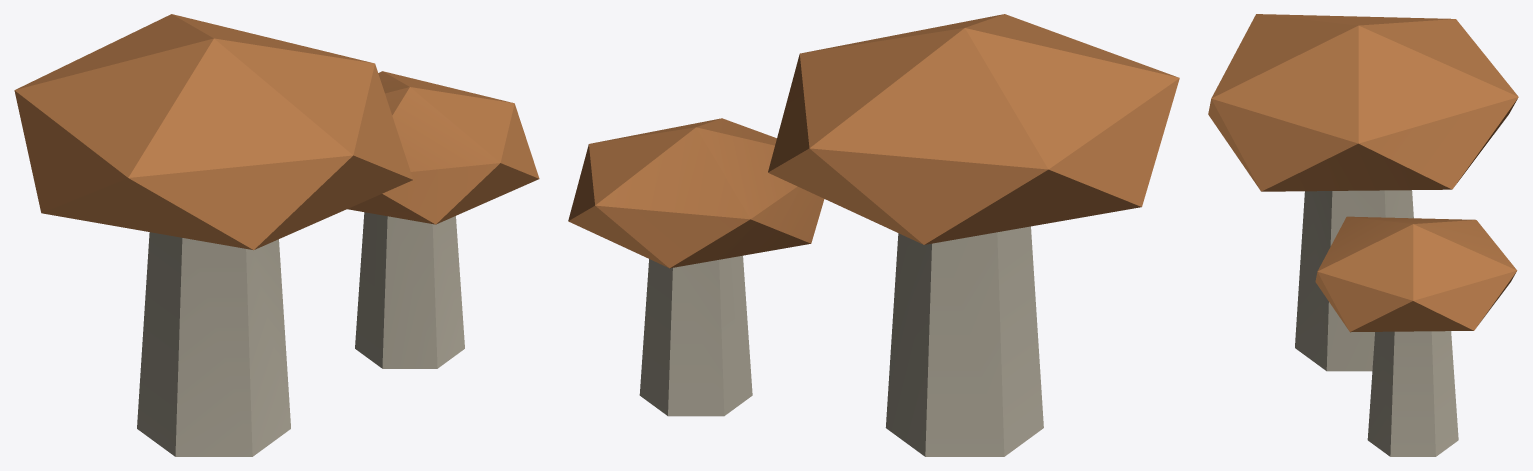
Rendered from Mushroom.fbx.
3 renders of one model, left to right at view 1: azimuth 30°, elevation 25°; view 2: azimuth 150°, elevation 25°; view 3: azimuth 270°, elevation 25°, orthographic. The views are drawn at different scales.
Visible parts, largest first — view 1: Mushroom; view 2: Mushroom; view 3: Mushroom.
Part boxes in pixels (bbox=[...]): Mushroom: bbox=[14, 14, 539, 456]; Mushroom: bbox=[568, 14, 1179, 456]; Mushroom: bbox=[1208, 14, 1518, 456].
Bounding box in the file's own units: 0.2654 × 0.1954 × 0.1706.
